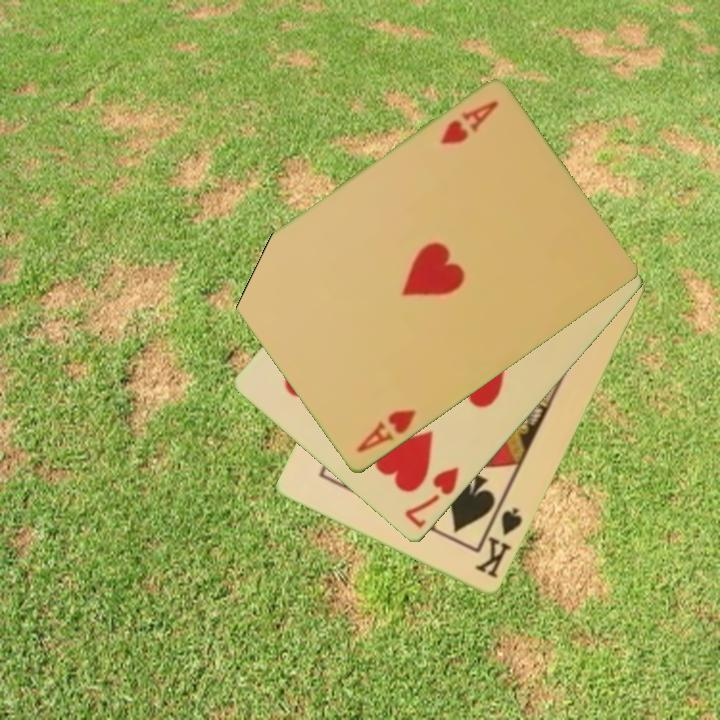7h: (401, 463, 462, 532)
Ah: (437, 97, 502, 149), (352, 406, 419, 456)
Ks: (472, 499, 526, 582)
